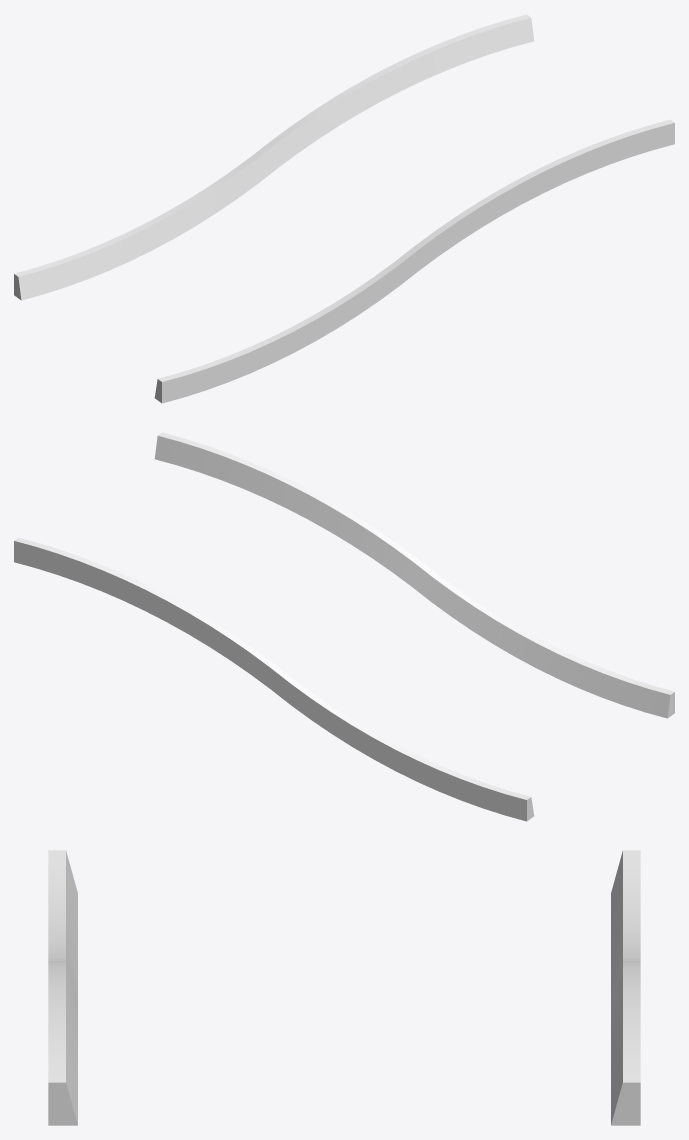
File: road-slant-curve-barrier.glb
The picture shows the model from 3 angles, top to bottom: view 1: azimuth 30°, elevation 25°; view 2: azimuth 150°, elevation 25°; view 3: azimuth 270°, elevation 25°; orthographic projection. The views are drawn at different scales.
Visible parts, largest first — view 1: road-slant-curve-barrier; view 2: road-slant-curve-barrier; view 3: road-slant-curve-barrier.
Boxes of the visible parts, bbox=[...] form: road-slant-curve-barrier: bbox=[14, 14, 674, 403]; road-slant-curve-barrier: bbox=[14, 432, 674, 821]; road-slant-curve-barrier: bbox=[48, 850, 640, 1125].
Size of the model in its own units: 2 by 0.58 by 1.
Materials: 1 (1 with a texture image).
